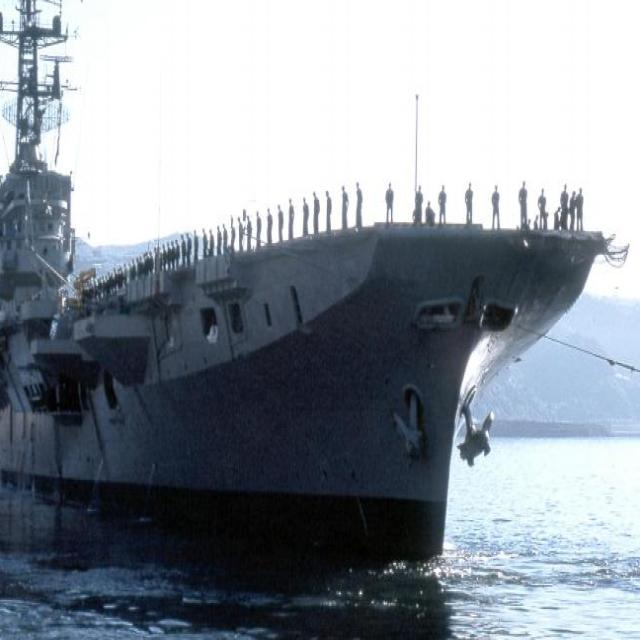Portanaves: (1, 1, 627, 571)
